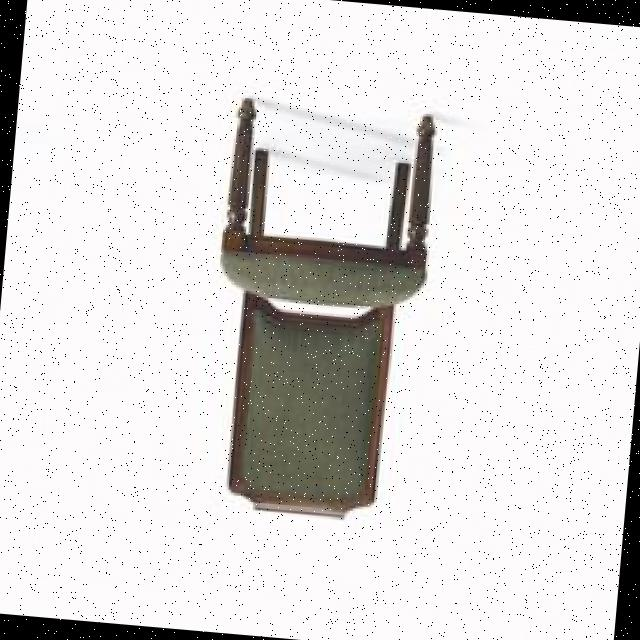Chair: (173, 67, 466, 550)
